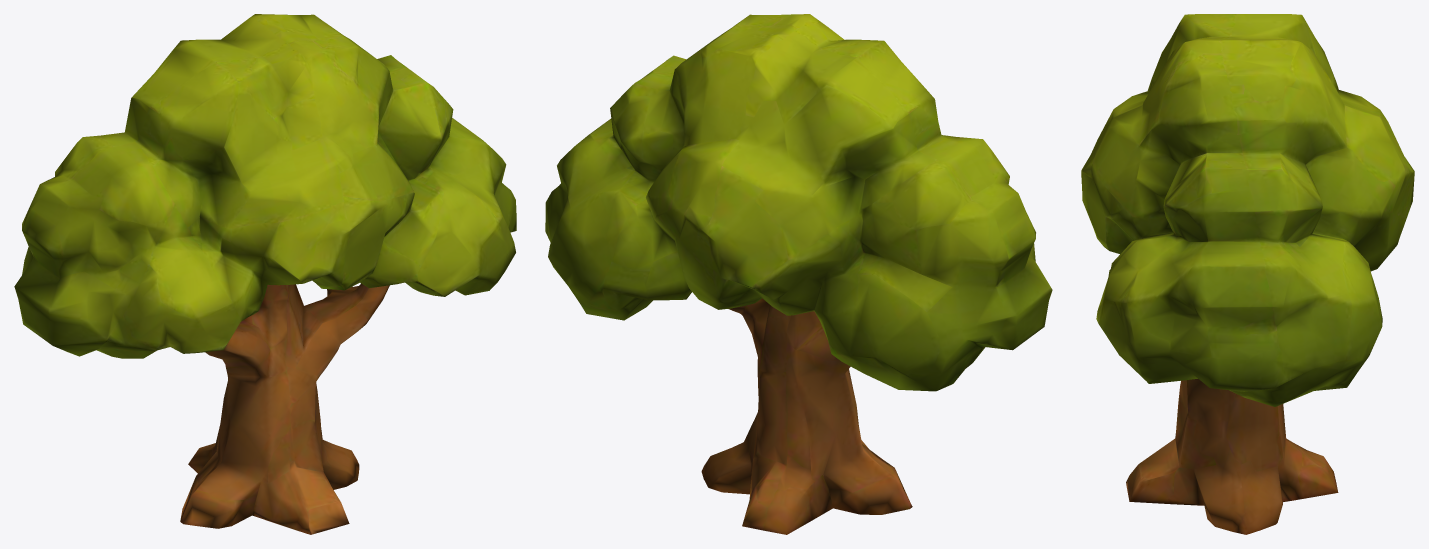
File: block.glb
The picture shows the model from 3 angles, left to right: view 1: azimuth 30°, elevation 25°; view 2: azimuth 150°, elevation 25°; view 3: azimuth 270°, elevation 25°; orthographic projection.
Visible parts, largest first — view 1: tripo_node_e203f66f-d3e4-4f05-9da4-62f61215ec3e; view 2: tripo_node_e203f66f-d3e4-4f05-9da4-62f61215ec3e; view 3: tripo_node_e203f66f-d3e4-4f05-9da4-62f61215ec3e.
Part boxes in pixels (bbox=[...]): tripo_node_e203f66f-d3e4-4f05-9da4-62f61215ec3e: bbox=[14, 14, 516, 534]; tripo_node_e203f66f-d3e4-4f05-9da4-62f61215ec3e: bbox=[545, 14, 1052, 534]; tripo_node_e203f66f-d3e4-4f05-9da4-62f61215ec3e: bbox=[1081, 14, 1414, 534].
Size of the model in its own units: 1.09 by 1 by 0.6614.
1 material, 1 textured.
